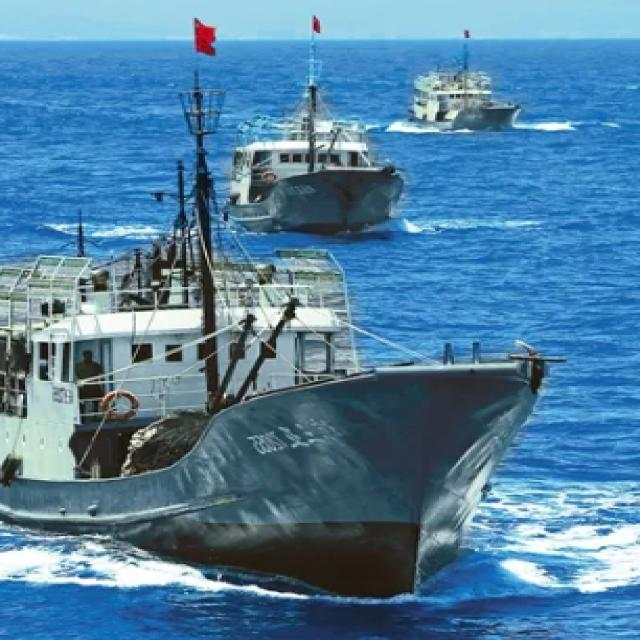fishing boat: (0, 210, 563, 602), (229, 65, 407, 228), (401, 27, 520, 132)
